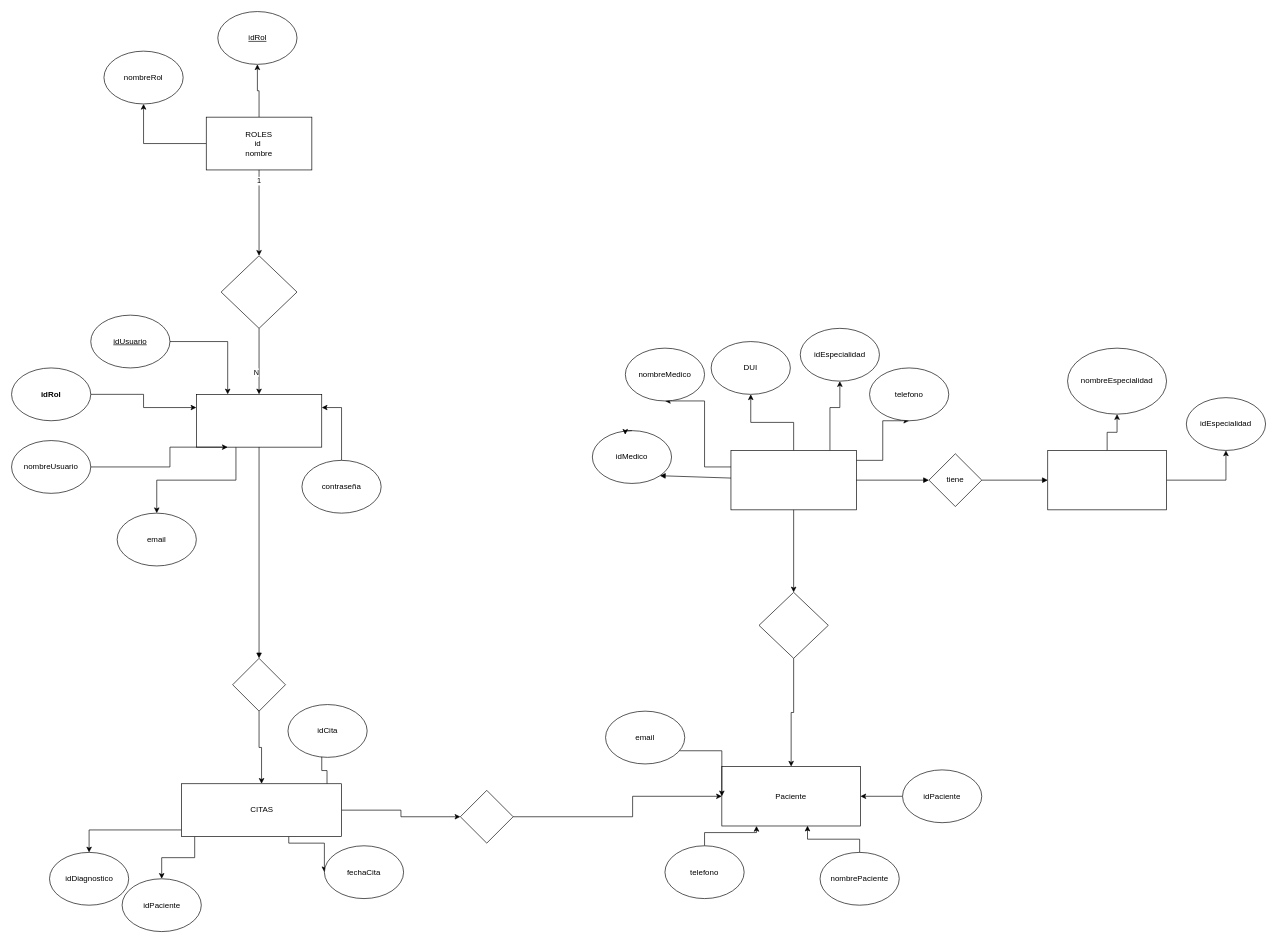
Some shapes in this 1277 by 943 pixel diagram are drawn without their labels. Each missing label, with the centre of its shape:
"agenda" belongs at (x=258, y=684).
"atiende" belongs at (x=793, y=625).
"Especialidad" belongs at (x=1107, y=480).
"Medicos" belongs at (x=793, y=480).
"Pertenece" belongs at (x=258, y=291).
"recibe" belongs at (x=486, y=816).
"Usuarios" belongs at (x=259, y=420).
